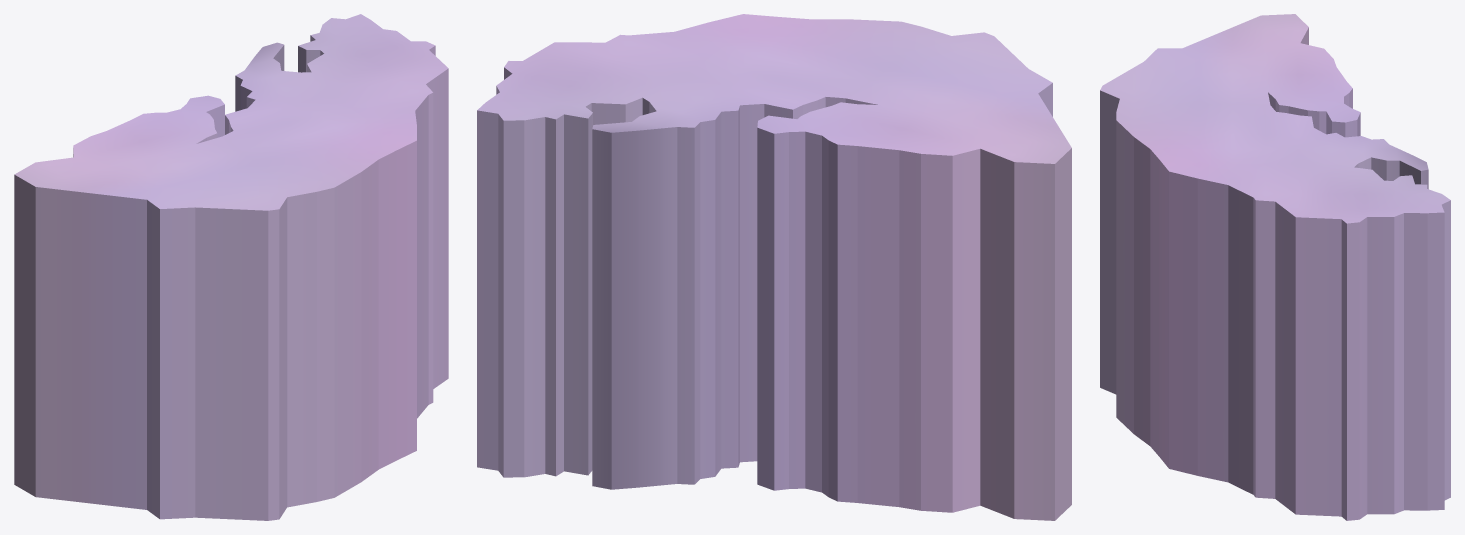
The model's file is ocean port.glb.
3 renders of one model, left to right at view 1: azimuth 30°, elevation 25°; view 2: azimuth 150°, elevation 25°; view 3: azimuth 270°, elevation 25°, orthographic. The views are drawn at different scales.
Visible parts, largest first — view 1: Plane.030; view 2: Plane.030; view 3: Plane.030.
Boxes of the visible parts, x1,y1,x2,y2 form: Plane.030: [14, 14, 448, 520]; Plane.030: [477, 14, 1071, 520]; Plane.030: [1100, 14, 1450, 520].
Bounding box in the file's own units: 0.5828 × 0.3856 × 0.4123.
1 material, 1 textured.
